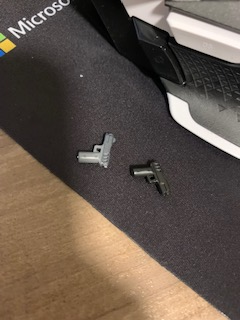pistol: (72, 131, 118, 173), (128, 159, 171, 200)
